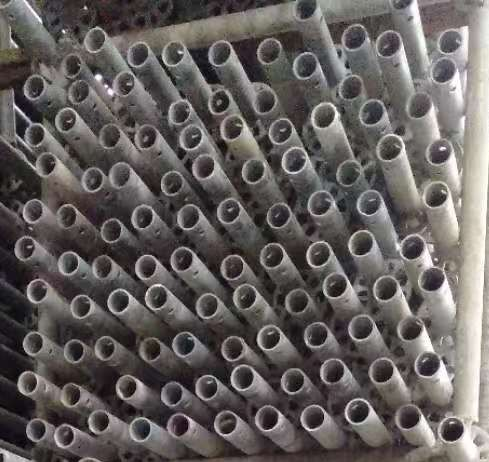circle_steel: (344, 227, 377, 260), (341, 394, 373, 428), (375, 134, 408, 165), (419, 180, 450, 213), (253, 37, 285, 68), (308, 101, 340, 132), (303, 238, 334, 270), (346, 313, 378, 344), (403, 92, 435, 123), (355, 100, 389, 129), (289, 50, 320, 81), (425, 137, 455, 169), (413, 264, 445, 294), (332, 159, 365, 188), (391, 403, 424, 432), (251, 405, 282, 435), (305, 189, 336, 219), (366, 357, 397, 387), (374, 29, 404, 60), (237, 157, 269, 186), (297, 402, 326, 434), (369, 275, 401, 304), (279, 147, 309, 177), (434, 28, 464, 58), (217, 334, 246, 364), (227, 364, 257, 393), (250, 87, 279, 117), (267, 118, 296, 148), (264, 201, 293, 231), (278, 367, 308, 396), (142, 282, 170, 313), (175, 202, 203, 233), (214, 195, 242, 226), (410, 350, 441, 378), (106, 161, 135, 190), (128, 203, 157, 232), (160, 40, 189, 69), (283, 287, 312, 316), (302, 322, 331, 351), (429, 59, 458, 88), (398, 233, 427, 262), (158, 379, 186, 409), (205, 40, 235, 68), (317, 358, 347, 386), (395, 316, 425, 344), (113, 372, 140, 403), (335, 75, 366, 102), (354, 189, 385, 216), (104, 288, 132, 317), (170, 331, 199, 359), (205, 89, 234, 117), (321, 273, 350, 301), (340, 24, 368, 53), (436, 416, 465, 444), (125, 41, 153, 69), (127, 416, 155, 444), (217, 114, 245, 142), (219, 254, 247, 282), (231, 283, 259, 311), (192, 373, 220, 401), (212, 410, 240, 438), (258, 242, 286, 270), (254, 324, 282, 352), (81, 26, 108, 55), (165, 99, 194, 126), (54, 250, 82, 277), (159, 170, 186, 198), (169, 246, 196, 274), (193, 293, 221, 320), (61, 337, 87, 366), (97, 217, 124, 244), (136, 337, 163, 364), (64, 80, 92, 106), (79, 167, 107, 193), (91, 334, 117, 362), (85, 408, 111, 436), (134, 124, 160, 152), (179, 124, 205, 152), (11, 235, 37, 262), (111, 70, 138, 96), (134, 253, 160, 280), (191, 155, 218, 181), (22, 73, 47, 101), (67, 294, 92, 322), (290, 1, 321, 23), (53, 108, 79, 134), (53, 203, 80, 228), (97, 122, 122, 149), (167, 412, 191, 440), (20, 199, 46, 224), (23, 278, 48, 304), (57, 54, 84, 78), (21, 124, 48, 148), (20, 331, 44, 358), (33, 153, 58, 178), (14, 371, 39, 396), (59, 382, 82, 409), (54, 423, 77, 450), (24, 418, 48, 443), (90, 255, 113, 281), (389, 1, 416, 14)
